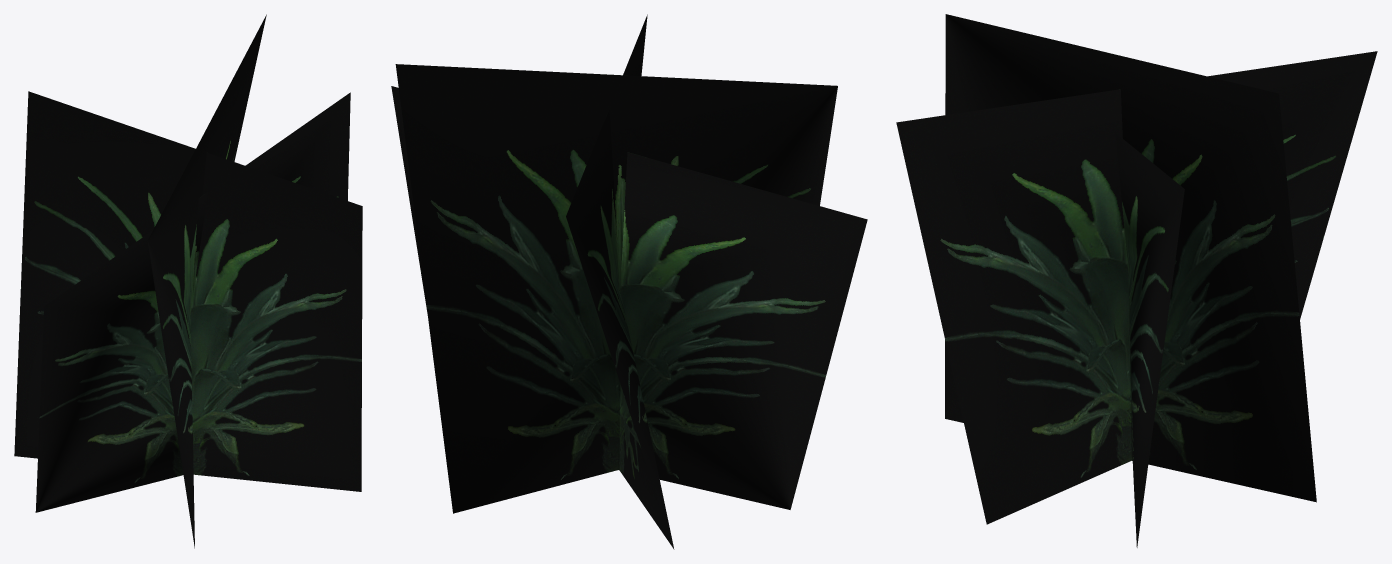
The model's file is obj__tropw6.obj.
3 views of the same model, side by side, from view 1: azimuth 30°, elevation 25°; view 2: azimuth 150°, elevation 25°; view 3: azimuth 270°, elevation 25° (orthographic). The views are drawn at different scales.
Visible parts, largest first — view 1: tropw6.tga; view 2: tropw6.tga; view 3: tropw6.tga.
Boxes of the visible parts, x1,y1,x2,y2 form: tropw6.tga: (14, 14, 362, 548); tropw6.tga: (391, 14, 867, 549); tropw6.tga: (896, 14, 1377, 547).
Size of the model in its own units: 119 by 117 by 114.
Materials: 1 (1 with a texture image).
